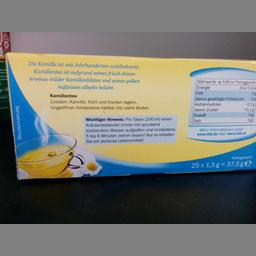tea: (4, 50, 254, 182)
